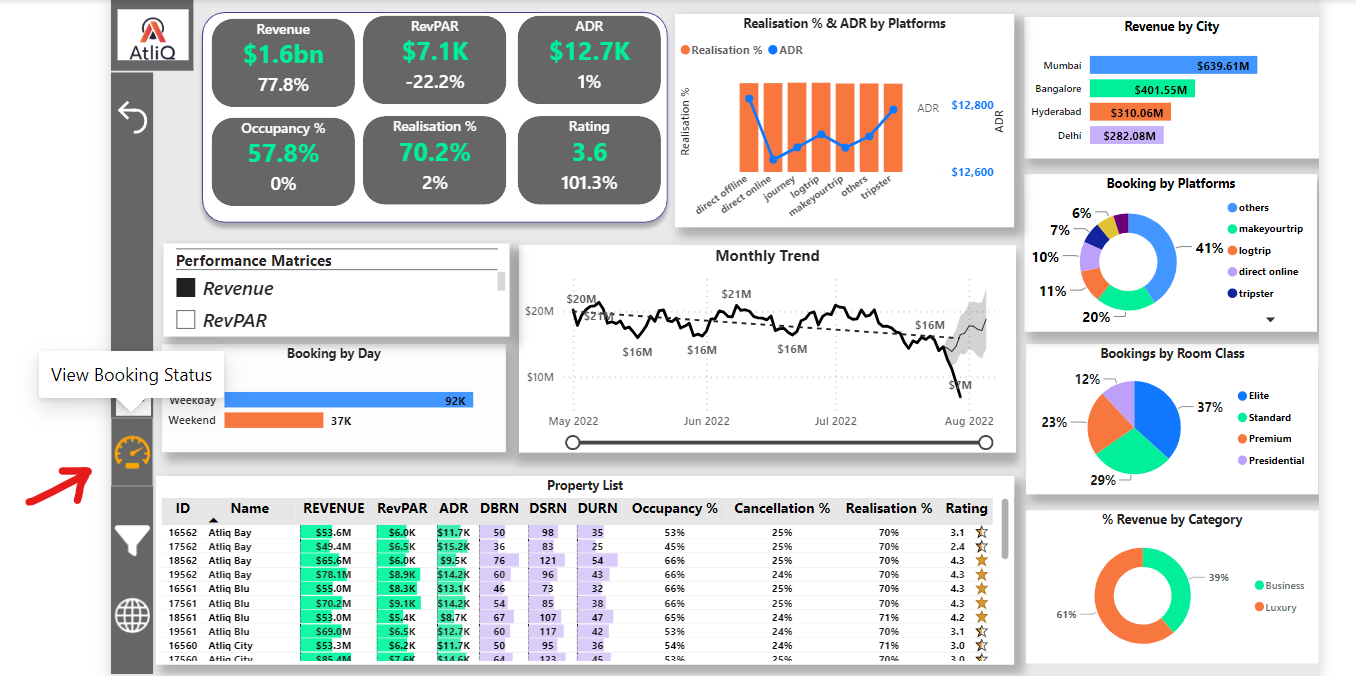

The page's visual inventory and layout, read from the dashboard file:
{"tool":"powerbi","page":{"name":"Dashboard","canvas":[1280,720],"ordinal":0},"visuals":[{"type":"shape","title":"logo BG","box":[0,0,87.4,76.3],"z":0,"group":"g8"},{"type":"shape","title":"KPI paneWhite BG","box":[87.4,4.8,511.3,241.1],"z":0,"group":"g9"},{"type":"shape","title":"5card BG","box":[267,18.2,152.1,93.8],"z":0,"group":"g4"},{"type":"shape","title":"5card BG","box":[430.4,18.2,152.1,93.8],"z":0,"group":"g2"},{"type":"shape","title":"5card BG","box":[106.8,21.5,152.1,93.8],"z":0,"group":"g1"},{"type":"shape","title":"5card BG","box":[267,125,152.1,93.8],"z":0,"group":"g5"},{"type":"shape","title":"5card BG","box":[430.4,125,152.1,93.8],"z":0,"group":"g6"},{"type":"shape","title":"5card BG","box":[106.8,126.6,152.1,93.8],"z":0,"group":"g3"},{"type":"lineChart","title":"Monthly Trend","fields":{"Y":["All Measures.Revenue"],"Category":["dim_date.date.Variation.Date Hierarchy.Year","dim_date.date.Variation.Date Hierarchy.Month","dim_date.date.Variation.Date Hierarchy.Day"]},"box":[431.7,259.4,526.7,220],"z":0,"group":"g7"},{"type":"tableEx","title":"Property List","fields":{"Values":["dim_hotels.property_id","dim_hotels.property_name","All Measures.Revenue","All Measures.RevPAR","All Measures.ADR","All Measures.DBRN","All Measures.DSRN","All Measures.DURN","All Measures.Occupancy %","All Measures.Cancellation %","All Measures.Realisation %","All Measures.Average Rating"]},"box":[47.7,505.4,909.1,200.3],"z":0},{"type":"image","title":" # AtliQ Logo","box":[1.2,0.8,85.8,73.1],"z":1000,"group":"g8"},{"type":"group","id":"g1","title":"# KPI card","box":[106.8,21,152.1,95.5],"z":1000,"group":"g9"},{"type":"card","title":"Revenur WOW %","fields":{"Values":["All Measures.\"RevPAR WoW change %"]},"box":[267.5,64.6,152.1,46.9],"z":1000,"group":"g4"},{"type":"card","title":"Revenur WOW %","fields":{"Values":["All Measures.\"ADR WoW change %"]},"box":[430.9,64.6,152.1,46.9],"z":1000,"group":"g2"},{"type":"card","title":"Revenur WOW %","fields":{"Values":["All Measures.\"Revenue WoW change %"]},"box":[107.3,67.9,152.1,46.9],"z":1000,"group":"g1"},{"type":"card","title":"Rating ","fields":{"Values":["All Measures.Average Rating"]},"box":[430.9,124.5,152.1,56.6],"z":1000,"group":"g6"},{"type":"card","title":"Revenur WOW %","fields":{"Values":["All Measures.\"Realisation WoW change %"]},"box":[267.5,171.4,152.1,46.9],"z":1000,"group":"g5"},{"type":"card","title":"Revenur WOW %","fields":{"Values":["All Measures.\"Occupancy WoW change %"]},"box":[107.3,173,152.1,46.9],"z":1000,"group":"g3"},{"type":"slicer","fields":{"Values":["Booking Matrices.Booking Matrices"]},"box":[55,258.3,366.7,98.3],"z":1000,"group":"g7"},{"type":"card","title":"RevPAR","fields":{"Values":["All Measures.RevPAR"]},"box":[267.5,17.7,152.1,56.6],"z":2000,"group":"g4"},{"type":"group","id":"g2","title":"# KPI card","box":[430.4,17.7,152.1,95.5],"z":2000,"group":"g9"},{"type":"card","title":"ADR","fields":{"Values":["All Measures.ADR"]},"box":[430.9,17.7,152.1,56.6],"z":2000,"group":"g2"},{"type":"card","title":"Revenue","fields":{"Values":["All Measures.Revenue"]},"box":[107.3,21,152.1,56.6],"z":2000,"group":"g1"},{"type":"card","title":"Realisation %","fields":{"Values":["All Measures.Realisation %"]},"box":[267.5,124.5,152.1,56.6],"z":2000,"group":"g5"},{"type":"card","title":"Occupancy %","fields":{"Values":["All Measures.Occupancy %"]},"box":[107.3,126.1,152.1,56.6],"z":2000,"group":"g3"},{"type":"card","title":"Rating WOW %","fields":{"Values":["All Measures.\"Rating WoW change %"]},"box":[430.4,171.4,152.1,46.9],"z":2000,"group":"g6"},{"type":"pieChart","title":"Bookings by Room Class","fields":{"Category":["dim_rooms.room_class"],"Y":["All Measures.Total Bookings"]},"box":[968.9,365.6,309.8,159],"z":2000},{"type":"clusteredBarChart","title":"Revenue by City","fields":{"Category":["dim_hotels.city"],"Y":["All Measures.Revenue"]},"box":[967.9,22.3,311.5,149.4],"z":3000},{"type":"group","id":"g3","title":"# KPI card","box":[106.8,126.1,152.1,95.5],"z":3000,"group":"g9"},{"type":"group","id":"g4","title":"# KPI card","box":[267,17.7,152.1,95.5],"z":4000,"group":"g9"},{"type":"donutChart","title":"Booking by Platforms","fields":{"Category":["fact_bookings.booking_platform"],"Y":["All Measures.Total Bookings"]},"box":[969.5,182.8,309.9,166.9],"z":4000},{"type":"shape","title":"Navigation bar BG","box":[0,77.9,44.5,637.4],"z":5000},{"type":"group","id":"g5","title":"# KPI card","box":[267,124.5,152.1,95.5],"z":5000,"group":"g9"},{"type":"actionButton","title":"reset button ","box":[0,95.4,46.1,58.8],"z":6000},{"type":"group","id":"g6","title":"# KPI card","box":[430.4,124.5,152.6,94.4],"z":6000,"group":"g9"},{"type":"clusteredBarChart","title":"Booking by Day","fields":{"Y":["All Measures.Total Bookings"],"Category":["dim_date.Day Type #DAX"]},"box":[55.6,365.6,364,114.4],"z":7000},{"type":"actionButton","title":"navi pane - map icon ","box":[0,619.7,45.3,66.3],"z":8000},{"type":"actionButton","title":"navi pane - filter icon ","box":[0,550.2,45.3,48.5],"z":9000},{"type":"group","id":"g7","title":"# Trend line graph","box":[55,258.3,903.3,221.7],"z":10000},{"type":"lineStackedColumnComboChart","title":"Realisation % & ADR by Platforms","fields":{"Category":["fact_bookings.booking_platform"],"Y":["All Measures.Realisation %"],"Y2":["All Measures.ADR"]},"box":[598.4,16.4,359,226.2],"z":11000},{"type":"donutChart","title":"% Revenue by Category","fields":{"Category":["dim_hotels.category"],"Y":["All Measures.Revenue"]},"box":[968.9,542.6,309.8,162.3],"z":12000},{"type":"group","id":"g8","title":"# LOGO","box":[0,0,87.4,76.3],"z":13000},{"type":"group","id":"g9","title":"# KPIs","box":[87.4,4.8,511.8,240],"z":14000},{"type":"actionButton","box":[0,443.3,45,73.3],"z":17000}]}

Visuals, with their boxes on the page's 1280x720 design canvas (x1, y1, x2, y2). These are canvas units, not pixel positions in the 1356x676 screenshot, which may show the page scaled, cropped or inside an application window:
"logo BG" shape: l=0, t=0, r=87, b=76
"KPI paneWhite BG" shape: l=87, t=5, r=599, b=246
"5card BG" shape: l=267, t=18, r=419, b=112
"5card BG" shape: l=430, t=18, r=582, b=112
"5card BG" shape: l=107, t=22, r=259, b=115
"5card BG" shape: l=267, t=125, r=419, b=219
"5card BG" shape: l=430, t=125, r=582, b=219
"5card BG" shape: l=107, t=127, r=259, b=220
"Monthly Trend" lineChart: l=432, t=259, r=958, b=479
"Property List" tableEx: l=48, t=505, r=957, b=706
" # AtliQ Logo" image: l=1, t=1, r=87, b=74
"# KPI card" group: l=107, t=21, r=259, b=116
"Revenur WOW %" card: l=268, t=65, r=420, b=112
"Revenur WOW %" card: l=431, t=65, r=583, b=112
"Revenur WOW %" card: l=107, t=68, r=259, b=115
"Rating " card: l=431, t=124, r=583, b=181
"Revenur WOW %" card: l=268, t=171, r=420, b=218
"Revenur WOW %" card: l=107, t=173, r=259, b=220
slicer - Booking Matrices.Booking Matrices: l=55, t=258, r=422, b=357
"RevPAR" card: l=268, t=18, r=420, b=74
"# KPI card" group: l=430, t=18, r=582, b=113
"ADR" card: l=431, t=18, r=583, b=74
"Revenue" card: l=107, t=21, r=259, b=78
"Realisation %" card: l=268, t=124, r=420, b=181
"Occupancy %" card: l=107, t=126, r=259, b=183
"Rating WOW %" card: l=430, t=171, r=582, b=218
"Bookings by Room Class" pieChart: l=969, t=366, r=1279, b=525
"Revenue by City" clusteredBarChart: l=968, t=22, r=1279, b=172
"# KPI card" group: l=107, t=126, r=259, b=222
"# KPI card" group: l=267, t=18, r=419, b=113
"Booking by Platforms" donutChart: l=970, t=183, r=1279, b=350
"Navigation bar BG" shape: l=0, t=78, r=44, b=715
"# KPI card" group: l=267, t=124, r=419, b=220
"reset button " actionButton: l=0, t=95, r=46, b=154
"# KPI card" group: l=430, t=124, r=583, b=219
"Booking by Day" clusteredBarChart: l=56, t=366, r=420, b=480
"navi pane - map icon " actionButton: l=0, t=620, r=45, b=686
"navi pane - filter icon " actionButton: l=0, t=550, r=45, b=599
"# Trend line graph" group: l=55, t=258, r=958, b=480
"Realisation % & ADR by Platforms" lineStackedColumnComboChart: l=598, t=16, r=957, b=243
"% Revenue by Category" donutChart: l=969, t=543, r=1279, b=705
"# LOGO" group: l=0, t=0, r=87, b=76
"# KPIs" group: l=87, t=5, r=599, b=245
actionButton: l=0, t=443, r=45, b=517
